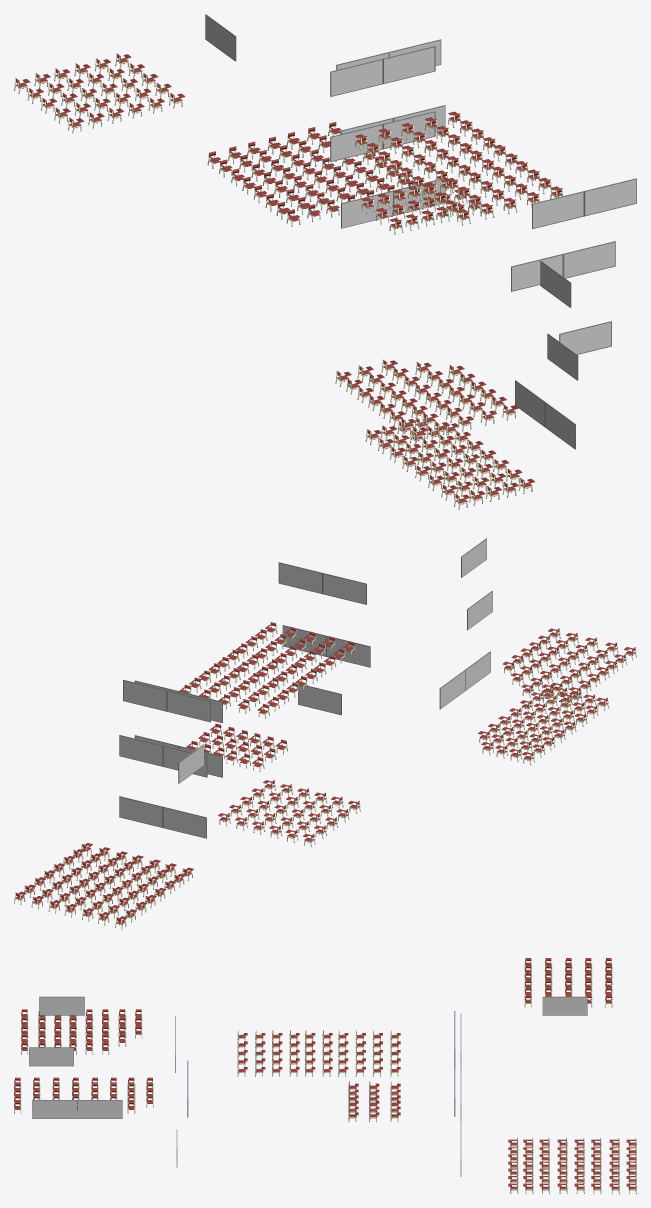
The model's file is PizarrasYPupitres.glb.
3 renders of one model, top to bottom at view 1: azimuth 30°, elevation 25°; view 2: azimuth 150°, elevation 25°; view 3: azimuth 270°, elevation 25°, orthographic. The views are drawn at different scales.
Visible parts, largest first — view 1: Cilindro.231, Cubo.020; view 2: Cilindro.231, Cubo.020; view 3: Cilindro.231, Cubo.020.
Boxes of the visible parts, x1,y1,x2,y2 form: Cilindro.231: (14, 53, 563, 509); Cubo.020: (205, 14, 636, 449); Cilindro.231: (14, 622, 636, 929); Cubo.020: (119, 538, 492, 838); Cilindro.231: (14, 958, 636, 1193); Cubo.020: (29, 996, 587, 1176).
Bounding box in the file's own units: 36.33 × 18.79 × 77.25.
